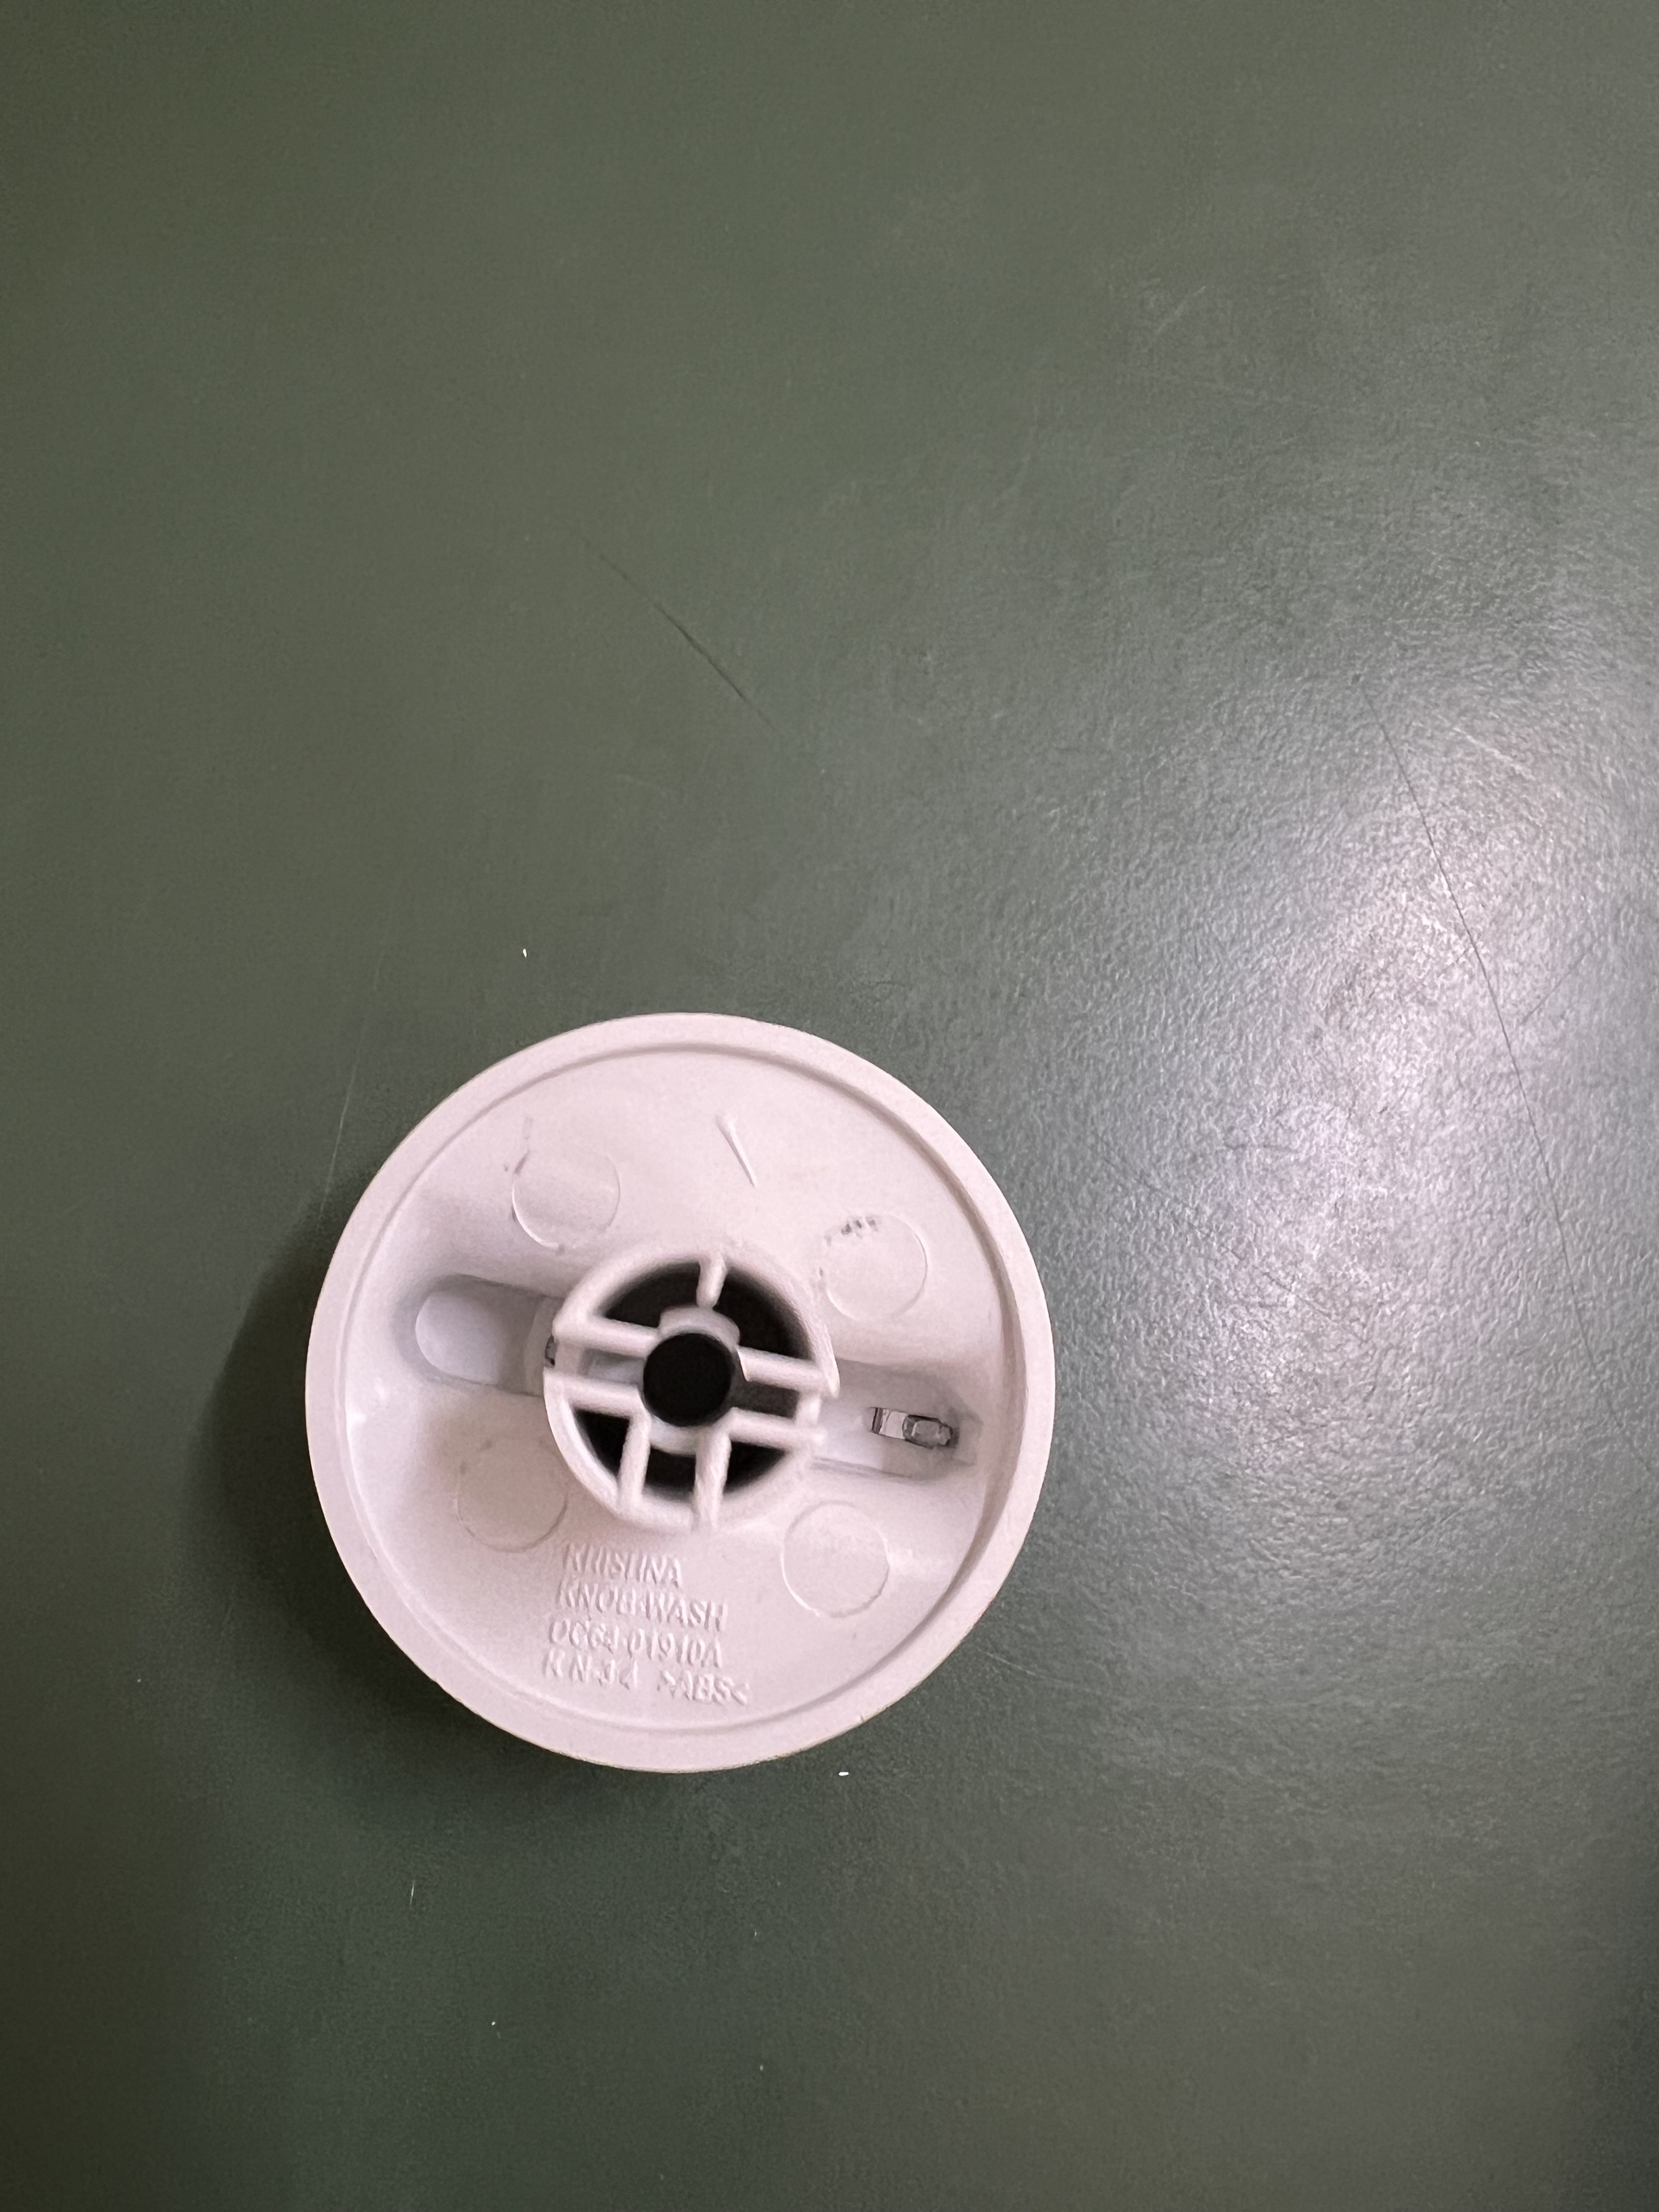regulator: (239, 907, 1124, 1808)
